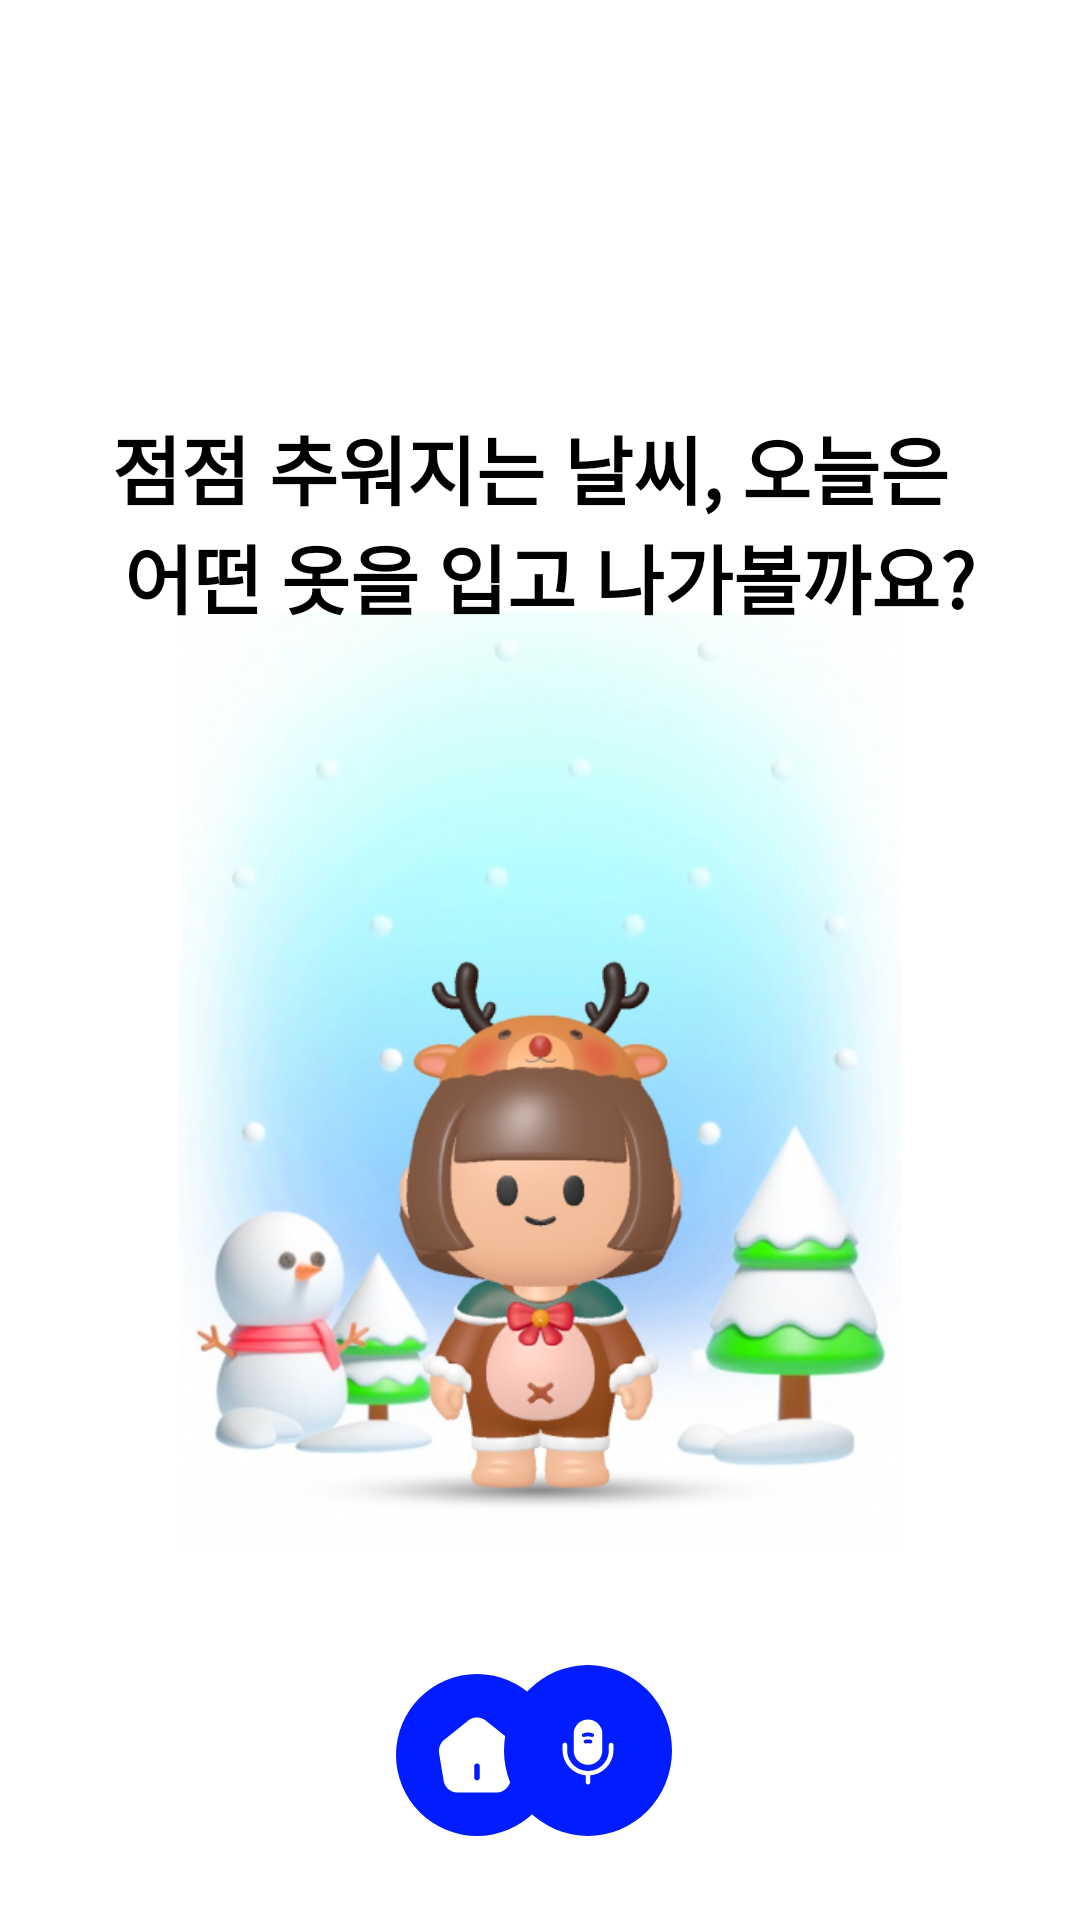

Icons on this 1080w x 1920h Android screen, each with its box as bbox=(x1, y1, x2, y2):
home: bbox=(396, 1674, 558, 1836)
mic: bbox=(504, 1665, 672, 1836)
